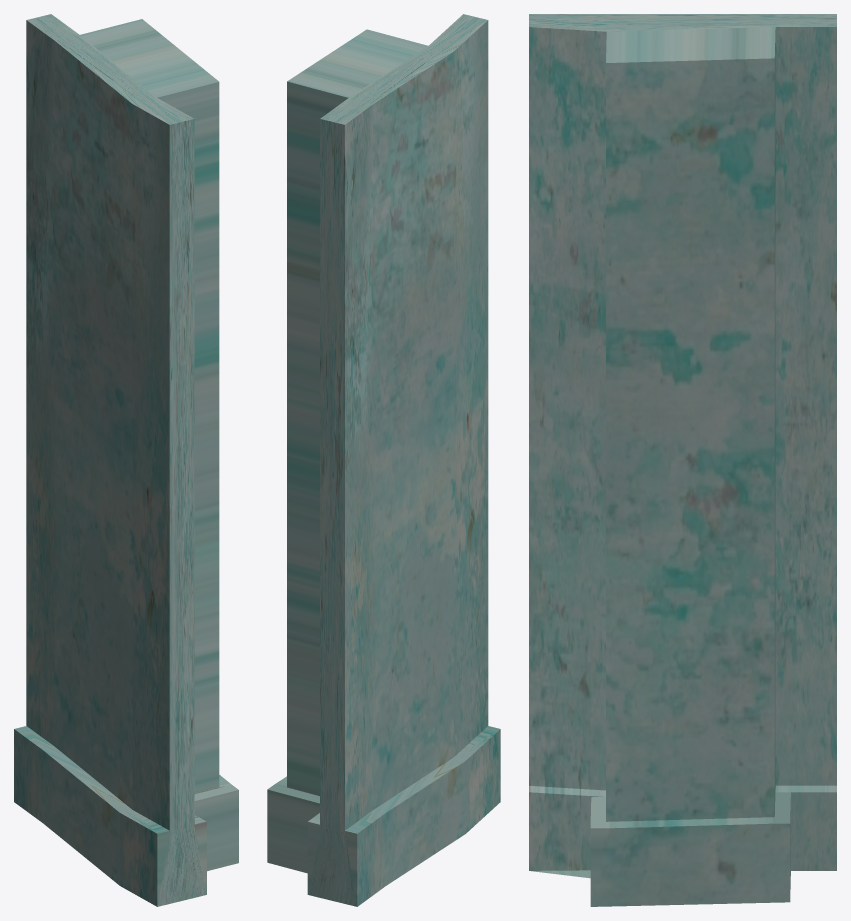
The model's file is Wall_Beam.glb.
The picture shows the model from 3 angles, left to right: view 1: azimuth 30°, elevation 25°; view 2: azimuth 150°, elevation 25°; view 3: azimuth 270°, elevation 25°; orthographic projection. The views are drawn at different scales.
Visible parts, largest first — view 1: Wall Beam; view 2: Wall Beam; view 3: Wall Beam.
Boxes of the visible parts, x1,y1,x2,y2 form: Wall Beam: [14, 14, 238, 906]; Wall Beam: [267, 14, 500, 906]; Wall Beam: [529, 14, 836, 906].
Size of the model in its own units: 0.4557 by 3.02 by 1.
Materials: 1 (1 with a texture image).
